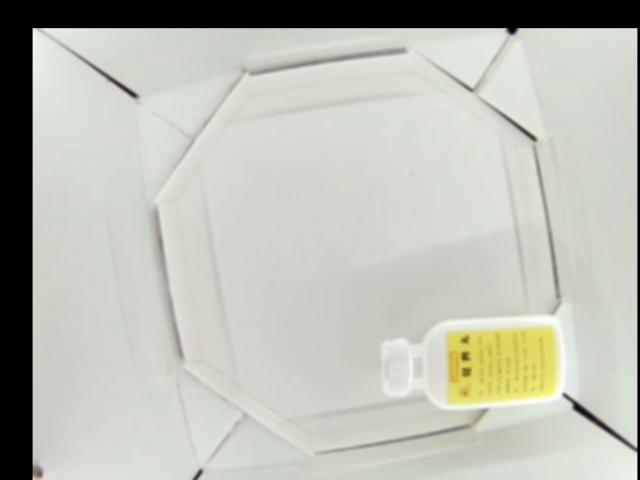Bottle: (379, 316, 565, 409)
